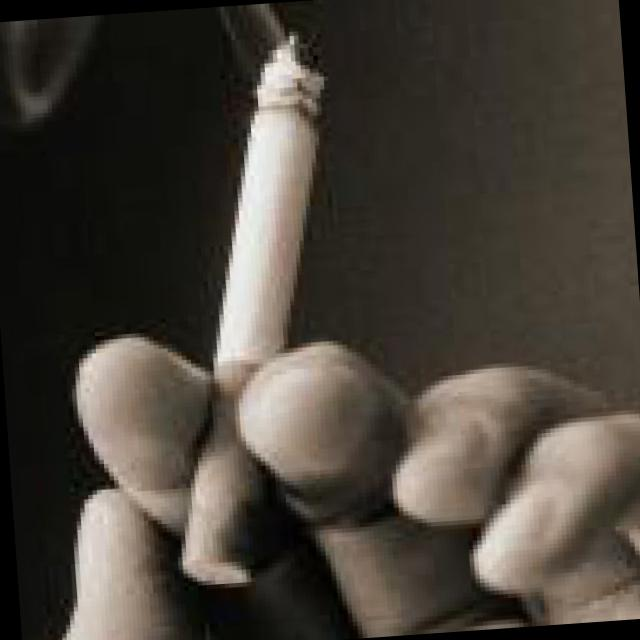cigarette: (126, 18, 374, 600)
